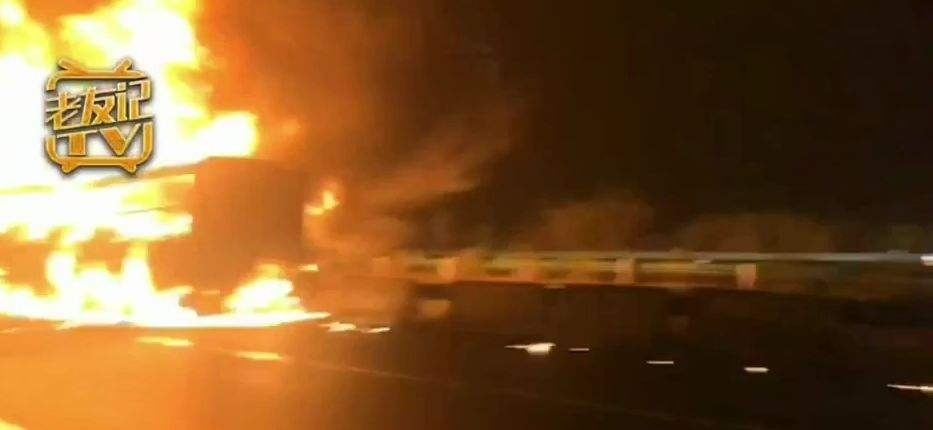fire: (0, 0, 271, 332)
